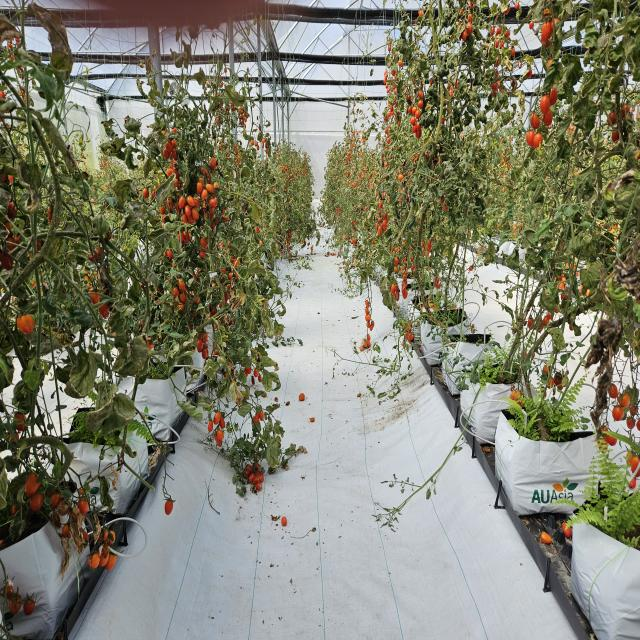Soilbag: (0, 480, 92, 609), (494, 408, 604, 515), (61, 400, 148, 519), (568, 499, 640, 635)
plant: (522, 54, 593, 412), (5, 81, 63, 468), (596, 58, 640, 524), (72, 140, 138, 410)
